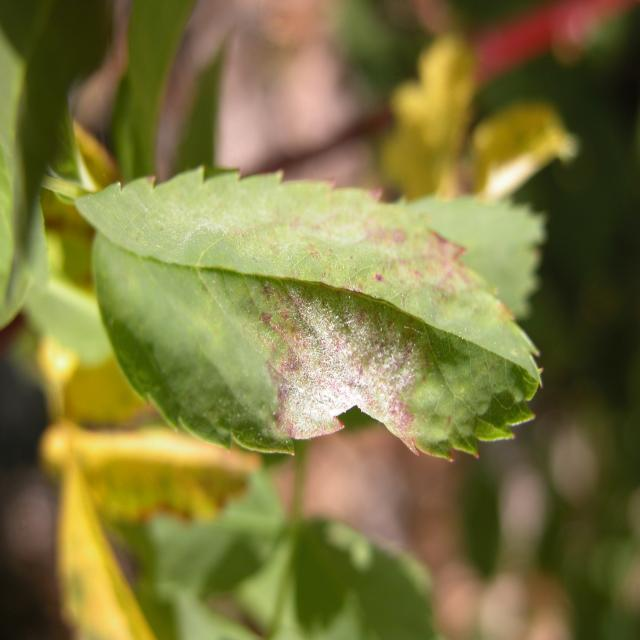Powdery Mildew: (254, 277, 424, 453)
